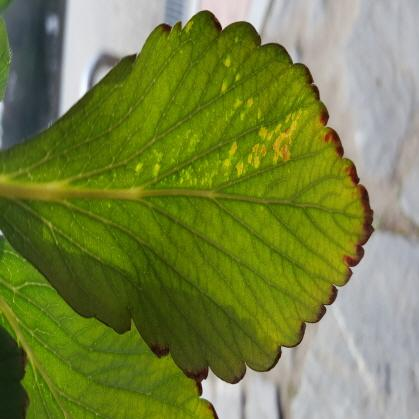Angular Leafspot: (128, 20, 312, 190)
